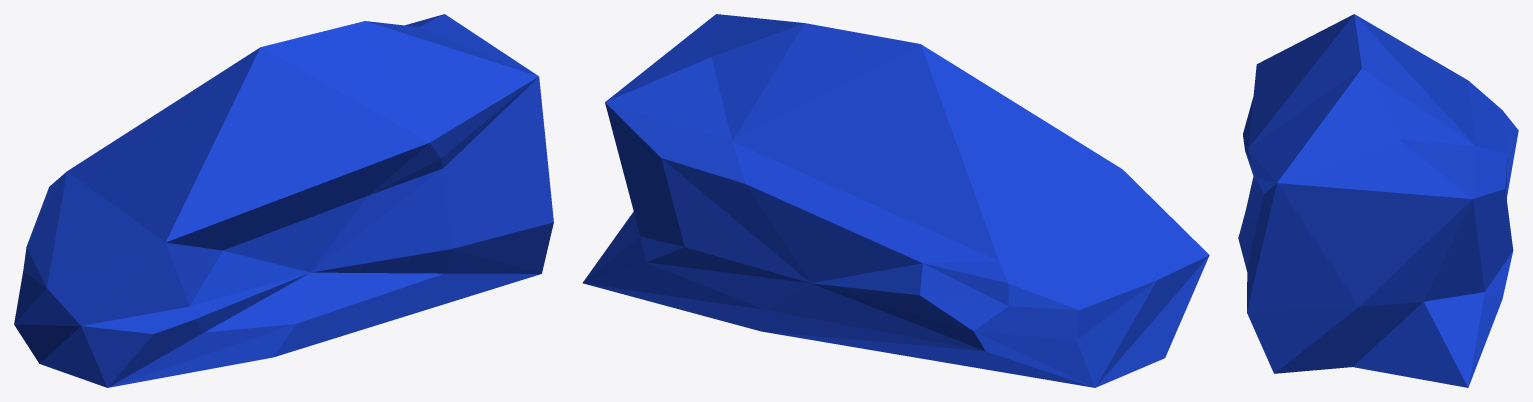
File: rock3.obj
3 renders of one model, left to right at view 1: azimuth 30°, elevation 25°; view 2: azimuth 150°, elevation 25°; view 3: azimuth 270°, elevation 25°, orthographic. The views are drawn at different scales.
Visible parts, largest first — view 1: SP_Mountain03_Mat; view 2: SP_Mountain03_Mat; view 3: SP_Mountain03_Mat.
Boxes of the visible parts, x1,y1,x2,y2 form: SP_Mountain03_Mat: (14,14,553,387); SP_Mountain03_Mat: (582,14,1209,387); SP_Mountain03_Mat: (1238,14,1518,387).
Bounding box in the file's own units: 76.06 × 37.07 × 38.21.
